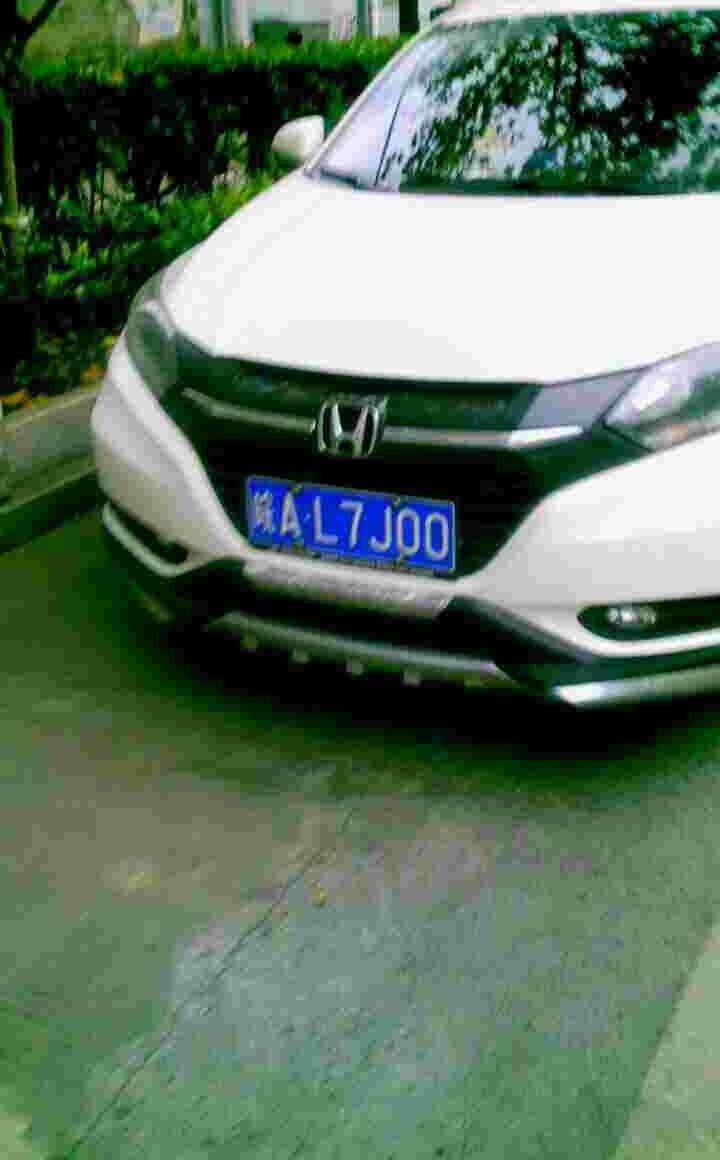license_plate: (243, 480, 462, 579)
